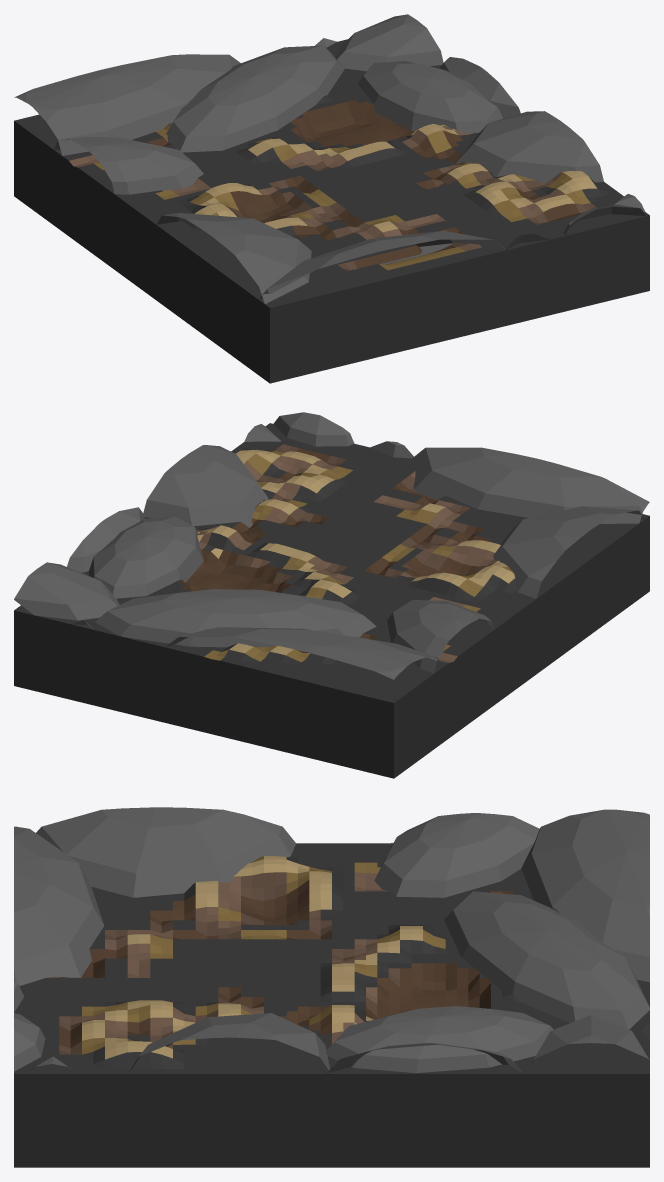
3 renders of one model, top to bottom at view 1: azimuth 30°, elevation 25°; view 2: azimuth 150°, elevation 25°; view 3: azimuth 270°, elevation 25°, orthographic. The views are drawn at different scales.
Parts seen in each view (by area): view 1: shapesz-t153; view 2: shapesz-t153; view 3: shapesz-t153.
Boxes of the visible parts, x1,y1,x2,y2 form: shapesz-t153: (14, 14, 649, 383); shapesz-t153: (14, 412, 649, 778); shapesz-t153: (14, 807, 649, 1167).
Bounding box in the file's own units: 2 × 0.538 × 2.33.
